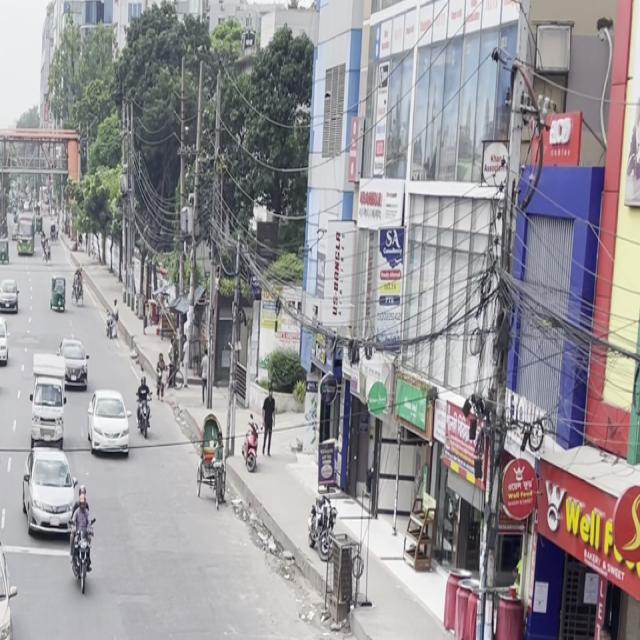car: (19, 439, 79, 547), (86, 380, 133, 466), (27, 360, 71, 449), (0, 528, 22, 640), (59, 327, 90, 395), (306, 637, 467, 640)
motorbike: (64, 486, 102, 601)
rickshaw: (0, 327, 4, 400)
